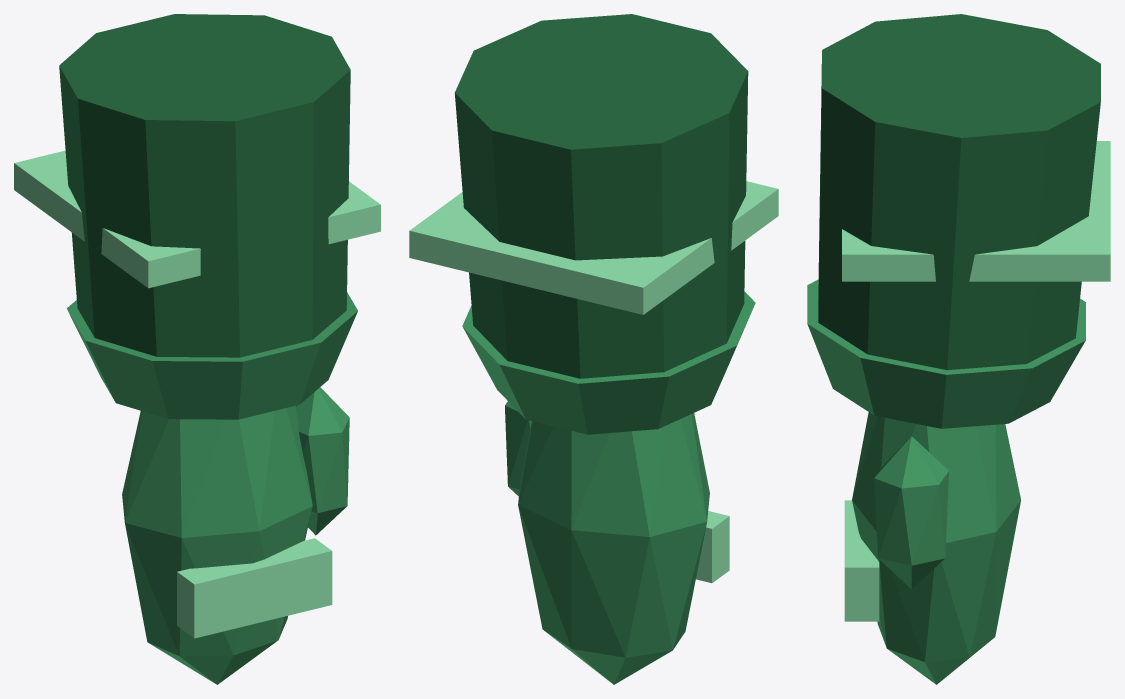
File: gear_adamant_gauntlets_arm_r.glb
The picture shows the model from 3 angles, left to right: view 1: azimuth 30°, elevation 25°; view 2: azimuth 150°, elevation 25°; view 3: azimuth 270°, elevation 25°; orthographic projection.
Parts seen in each view (by area): view 1: gear_adamant_gauntlets_arm_r; view 2: gear_adamant_gauntlets_arm_r; view 3: gear_adamant_gauntlets_arm_r.
Boxes of the visible parts, x1,y1,x2,y2 form: gear_adamant_gauntlets_arm_r: (14, 14, 380, 684); gear_adamant_gauntlets_arm_r: (409, 14, 778, 684); gear_adamant_gauntlets_arm_r: (807, 14, 1110, 684).
Size of the model in its own units: 0.118 by 0.2731 by 0.122.
